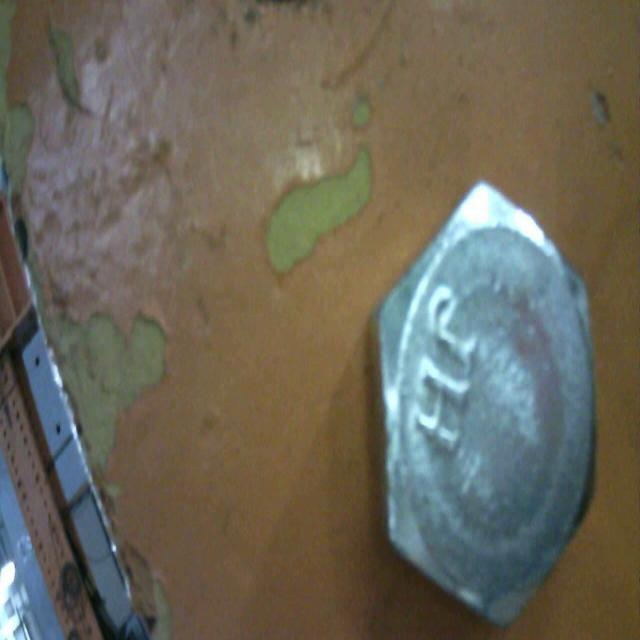Regular bolt: (361, 180, 610, 634)
